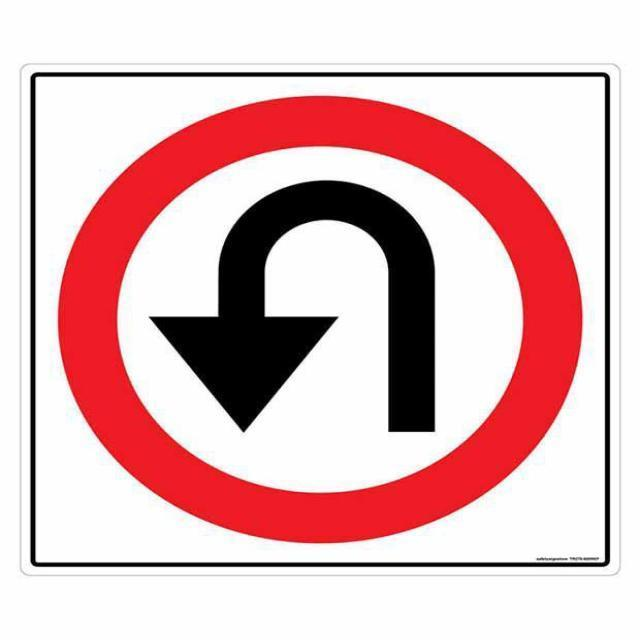u turn: (40, 83, 601, 556)
